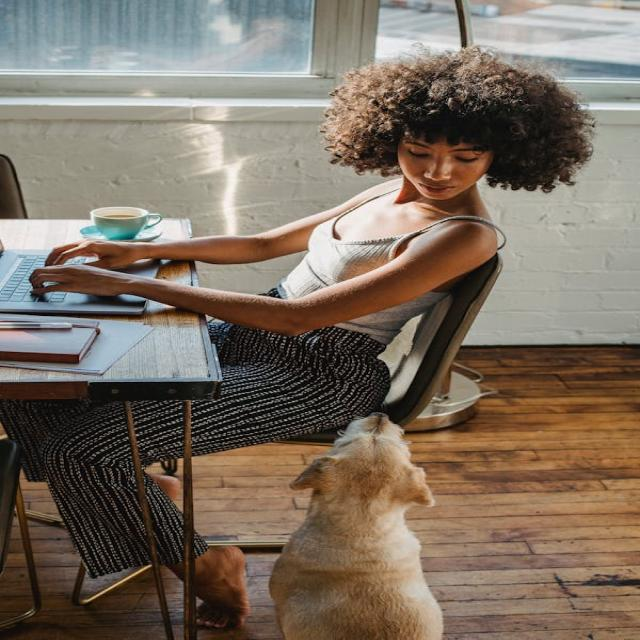Real human 2: (58, 36, 572, 627)
